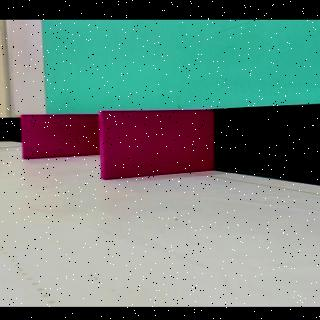xparking: (100, 112, 212, 171), (22, 115, 97, 155)
